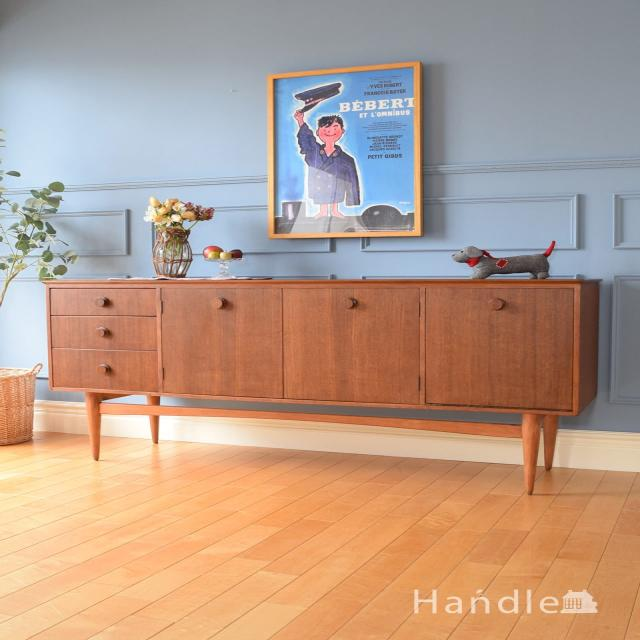vintage shelf: (43, 276, 600, 494)
